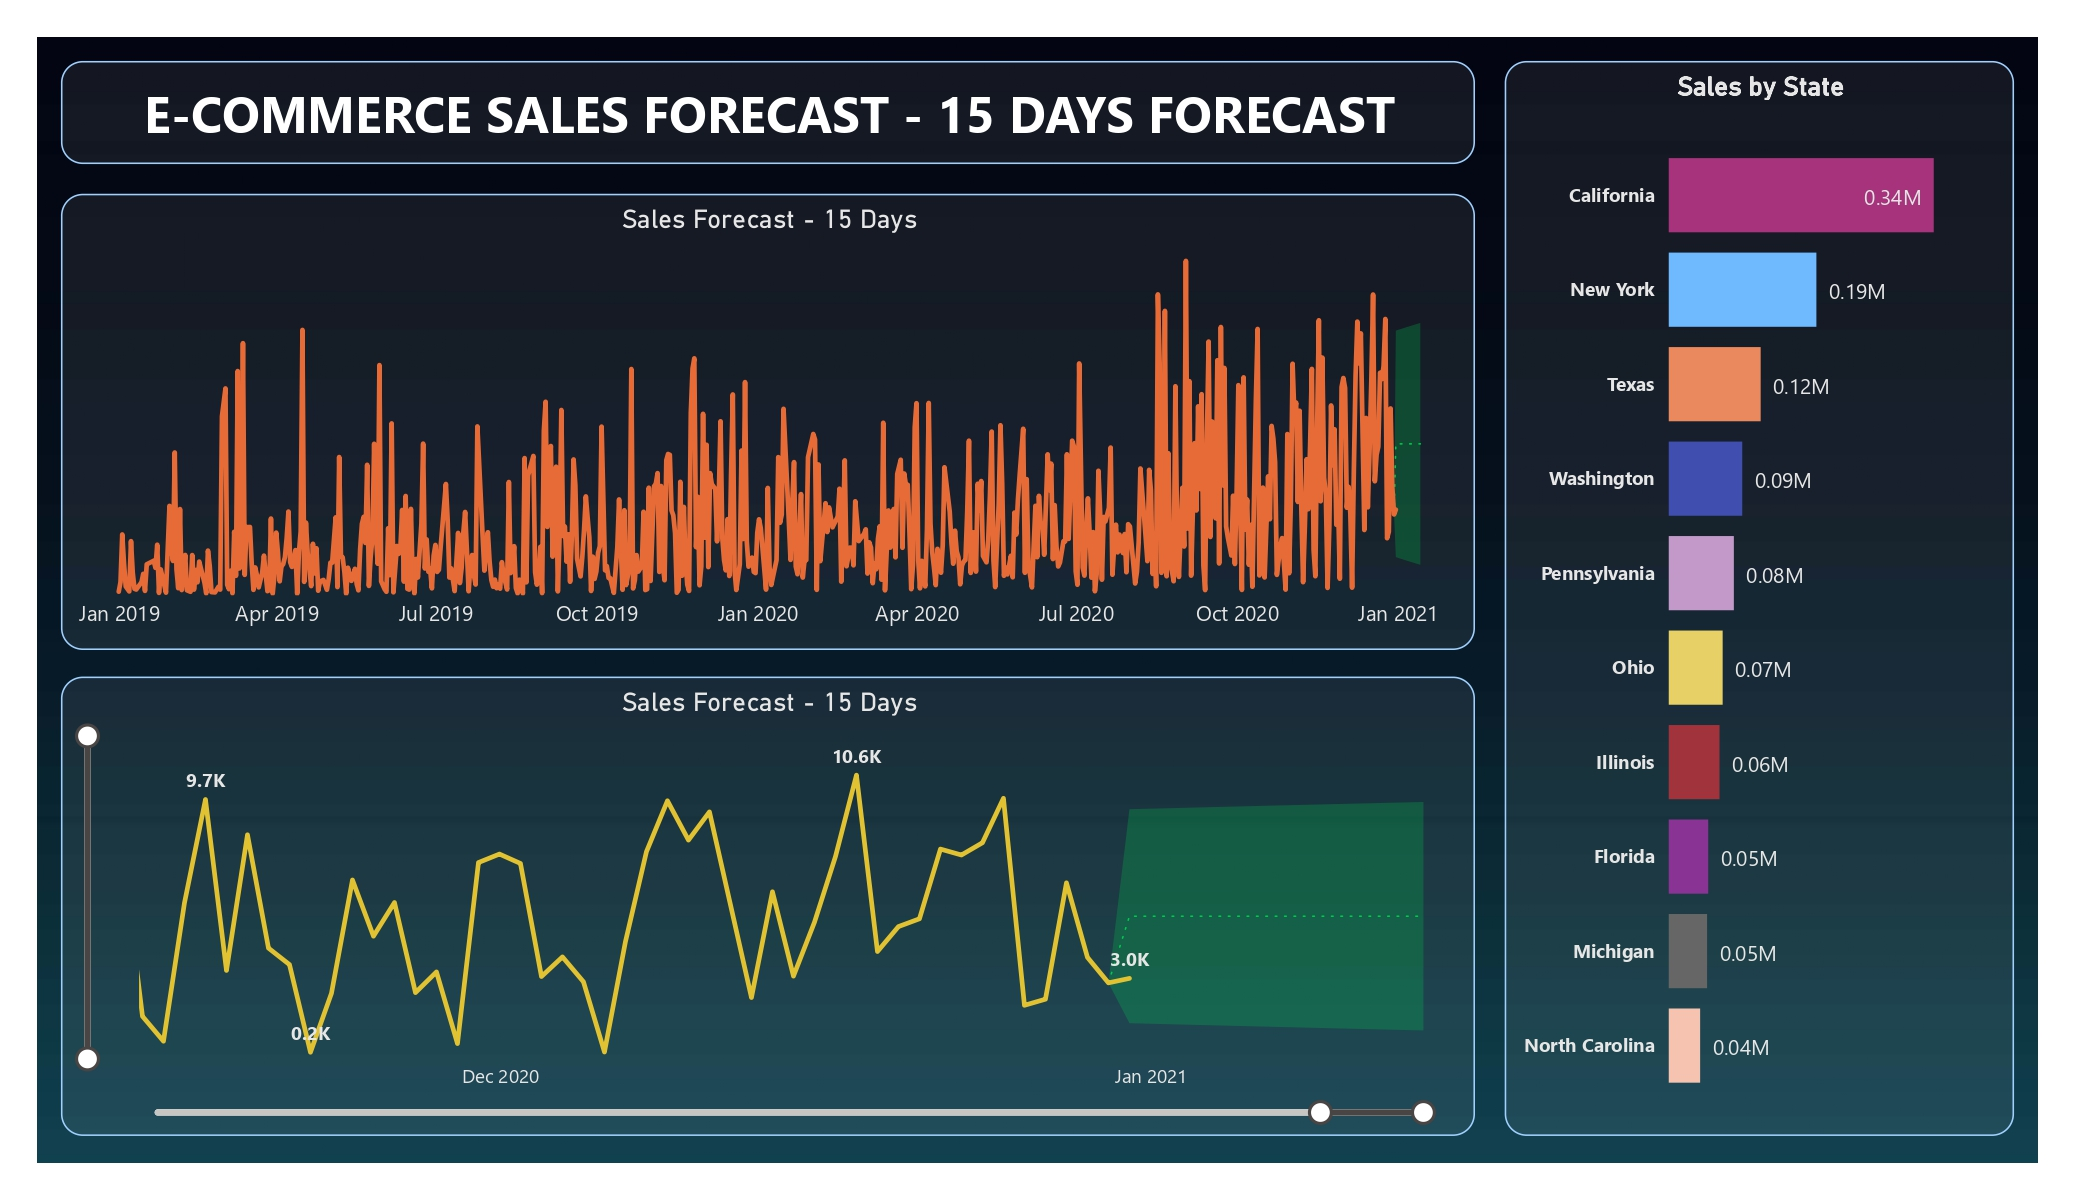

What the dashboard file says about the page in this screenshot:
{"tool":"powerbi","page":{"name":"Page 2","canvas":[1280,720],"ordinal":1},"visuals":[{"type":"lineChart","title":"Sales Forecast - 15 Days","fields":{"Y":["Sum(SuperStore_Sales_Dataset.Sales)"],"Category":["SuperStore_Sales_Dataset.Order Date"]},"box":[15.1,100.1,904.9,292],"z":0},{"type":"lineChart","title":"Sales Forecast - 15 Days","fields":{"Y":["Sum(SuperStore_Sales_Dataset.Sales)"],"Category":["SuperStore_Sales_Dataset.Order Date"]},"box":[15.1,408.6,904.9,294.8],"z":1000},{"type":"textbox","box":[15.1,15.1,904.9,65.8],"z":2000},{"type":"clusteredBarChart","title":" Sales by State","fields":{"Category":["SuperStore_Sales_Dataset.State"],"Y":["Sum(SuperStore_Sales_Dataset.Sales)"]},"box":[939.2,15.1,326.3,688.3],"z":3000}]}

Visuals, with their boxes in screenshot pixels (x1, y1, x2, y2):
"Sales Forecast - 15 Days" lineChart: bbox=[61, 194, 1475, 650]
"Sales Forecast - 15 Days" lineChart: bbox=[61, 676, 1475, 1137]
textbox: bbox=[61, 61, 1475, 164]
" Sales by State" clusteredBarChart: bbox=[1505, 61, 2015, 1137]
